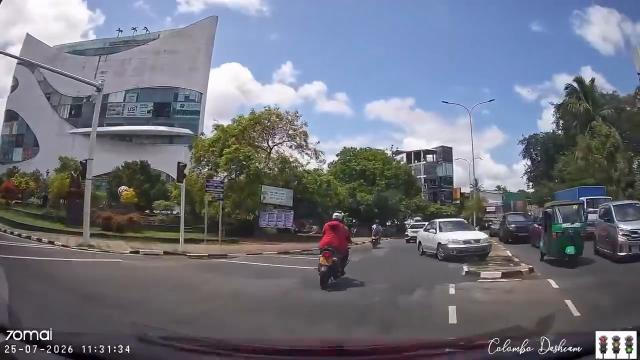illegal u turn: (411, 217, 500, 269)
